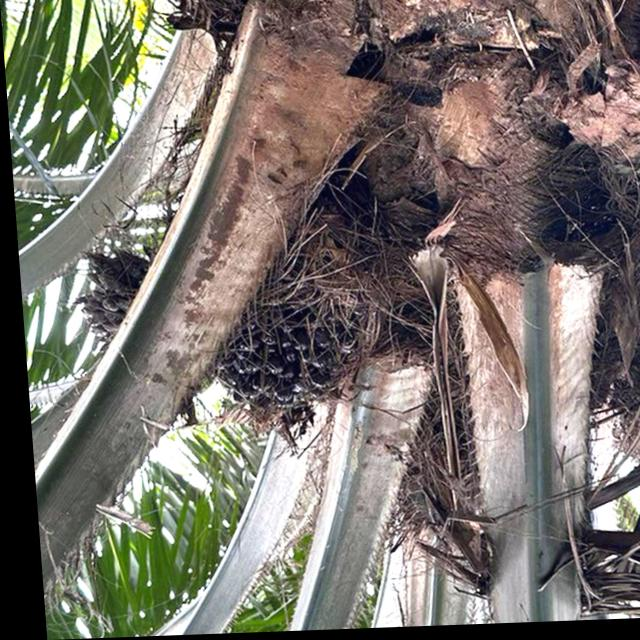almost: (199, 216, 377, 419), (74, 249, 162, 356)
